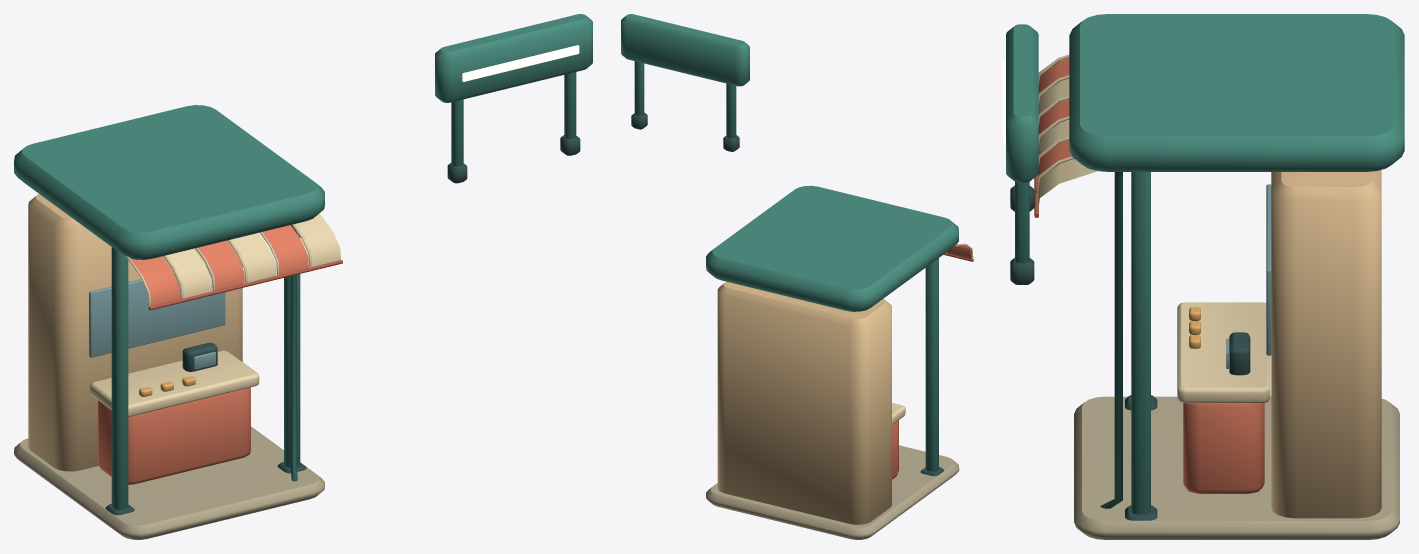
The model's file is tropical_scooters_4.glb.
3 renders of one model, left to right at view 1: azimuth 30°, elevation 25°; view 2: azimuth 150°, elevation 25°; view 3: azimuth 270°, elevation 25°, orthographic. The views are drawn at different scales.
Visible parts, largest first — view 1: TropicalScooters4; view 2: TropicalScooters4; view 3: TropicalScooters4.
Part boxes in pixels (left/top/right/bottom): TropicalScooters4: left=14, top=14, right=592, bottom=539; TropicalScooters4: left=621, top=14, right=973, bottom=539; TropicalScooters4: left=1002, top=14, right=1404, bottom=539.
Bounding box in the file's own units: 5.09 × 4.83 × 3.06.
